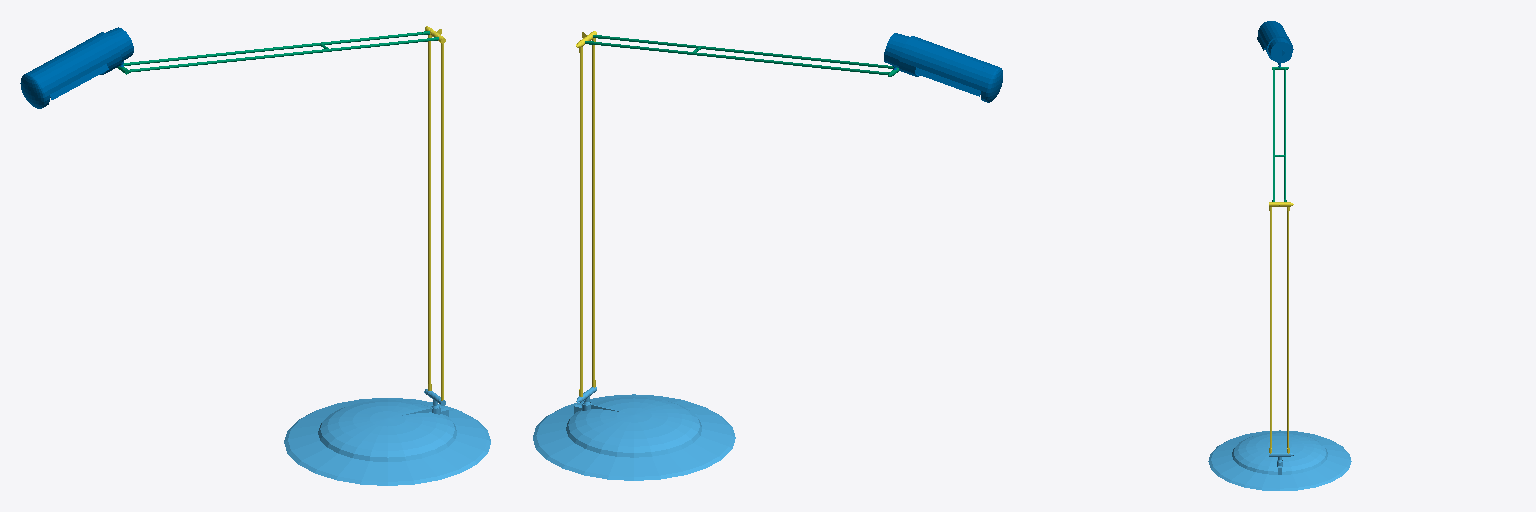
The robot description file, URDF, robot "partnet_3a5a0f4c78e17b284f0c4075db76b7c":
<?xml version="1.0" ?>
<robot name="partnet_3a5a0f4c78e17b284f0c4075db76b7c">
	<link name="base"/>
	<link name="link_0">
		<visual name="lamp_base_part-26">
			<origin xyz="0 0 0"/>
			<geometry>
				<mesh filename="textured_objs/original-1.obj"/>
			</geometry>
		</visual>
		<visual name="lamp_base_part-26">
			<origin xyz="0 0 0"/>
			<geometry>
				<mesh filename="textured_objs/original-23.obj"/>
			</geometry>
		</visual>
		<visual name="lamp_base_part-26">
			<origin xyz="0 0 0"/>
			<geometry>
				<mesh filename="textured_objs/original-22.obj"/>
			</geometry>
		</visual>
		<visual name="lamp_base_part-26">
			<origin xyz="0 0 0"/>
			<geometry>
				<mesh filename="textured_objs/original-3.obj"/>
			</geometry>
		</visual>
		<collision>
			<origin xyz="0 0 0"/>
			<geometry>
				<mesh filename="textured_objs/original-1.obj"/>
			</geometry>
		</collision>
		<collision>
			<origin xyz="0 0 0"/>
			<geometry>
				<mesh filename="textured_objs/original-23.obj"/>
			</geometry>
		</collision>
		<collision>
			<origin xyz="0 0 0"/>
			<geometry>
				<mesh filename="textured_objs/original-22.obj"/>
			</geometry>
		</collision>
		<collision>
			<origin xyz="0 0 0"/>
			<geometry>
				<mesh filename="textured_objs/original-3.obj"/>
			</geometry>
		</collision>
	</link>
	<joint name="joint_0" type="fixed">
		<origin rpy="1.570796326794897 0 -1.570796326794897" xyz="0 0 0"/>
		<child link="link_0"/>
		<parent link="base"/>
	</joint>
	<link name="link_1">
		<visual name="lamp_arm_straight_bar-17">
			<origin xyz="0 -0.549209129484305 0.263572"/>
			<geometry>
				<mesh filename="textured_objs/original-16.obj"/>
			</geometry>
		</visual>
		<collision>
			<origin xyz="0 -0.549209129484305 0.263572"/>
			<geometry>
				<mesh filename="textured_objs/original-16.obj"/>
			</geometry>
		</collision>
	</link>
	<joint name="joint_1" type="revolute">
		<origin xyz="0 0.8290066359306308 -7.693681239595573e-06"/>
		<axis xyz="1 0 0"/>
		<child link="link_1"/>
		<parent link="link_2"/>
		<limit lower="-0.9047786842338603" upper="0.6283185307179586"/>
	</joint>
	<link name="link_2">
		<visual name="lamp_arm_straight_bar-24">
			<origin xyz="0 0.27979750644632584 0.2635643063187604"/>
			<geometry>
				<mesh filename="textured_objs/original-25.obj"/>
			</geometry>
		</visual>
		<visual name="lamp_arm_straight_bar-24">
			<origin xyz="0 0.27979750644632584 0.2635643063187604"/>
			<geometry>
				<mesh filename="textured_objs/original-5.obj"/>
			</geometry>
		</visual>
		<visual name="lamp_arm_straight_bar-24">
			<origin xyz="0 0.27979750644632584 0.2635643063187604"/>
			<geometry>
				<mesh filename="textured_objs/original-13.obj"/>
			</geometry>
		</visual>
		<visual name="lamp_arm_straight_bar-22">
			<origin xyz="0 0.27979750644632584 0.2635643063187604"/>
			<geometry>
				<mesh filename="textured_objs/original-24.obj"/>
			</geometry>
		</visual>
		<visual name="lamp_arm_straight_bar-22">
			<origin xyz="0 0.27979750644632584 0.2635643063187604"/>
			<geometry>
				<mesh filename="textured_objs/original-6.obj"/>
			</geometry>
		</visual>
		<visual name="lamp_arm_straight_bar-22">
			<origin xyz="0 0.27979750644632584 0.2635643063187604"/>
			<geometry>
				<mesh filename="textured_objs/original-14.obj"/>
			</geometry>
		</visual>
		<visual name="lamp_joint-16">
			<origin xyz="0 0.27979750644632584 0.2635643063187604"/>
			<geometry>
				<mesh filename="textured_objs/original-10.obj"/>
			</geometry>
		</visual>
		<visual name="lamp_joint-16">
			<origin xyz="0 0.27979750644632584 0.2635643063187604"/>
			<geometry>
				<mesh filename="textured_objs/original-15.obj"/>
			</geometry>
		</visual>
		<visual name="lamp_joint-16">
			<origin xyz="0 0.27979750644632584 0.2635643063187604"/>
			<geometry>
				<mesh filename="textured_objs/original-8.obj"/>
			</geometry>
		</visual>
		<visual name="lamp_joint-16">
			<origin xyz="0 0.27979750644632584 0.2635643063187604"/>
			<geometry>
				<mesh filename="textured_objs/original-11.obj"/>
			</geometry>
		</visual>
		<visual name="lamp_joint-16">
			<origin xyz="0 0.27979750644632584 0.2635643063187604"/>
			<geometry>
				<mesh filename="textured_objs/original-9.obj"/>
			</geometry>
		</visual>
		<collision>
			<origin xyz="0 0.27979750644632584 0.2635643063187604"/>
			<geometry>
				<mesh filename="textured_objs/original-25.obj"/>
			</geometry>
		</collision>
		<collision>
			<origin xyz="0 0.27979750644632584 0.2635643063187604"/>
			<geometry>
				<mesh filename="textured_objs/original-5.obj"/>
			</geometry>
		</collision>
		<collision>
			<origin xyz="0 0.27979750644632584 0.2635643063187604"/>
			<geometry>
				<mesh filename="textured_objs/original-13.obj"/>
			</geometry>
		</collision>
		<collision>
			<origin xyz="0 0.27979750644632584 0.2635643063187604"/>
			<geometry>
				<mesh filename="textured_objs/original-24.obj"/>
			</geometry>
		</collision>
		<collision>
			<origin xyz="0 0.27979750644632584 0.2635643063187604"/>
			<geometry>
				<mesh filename="textured_objs/original-6.obj"/>
			</geometry>
		</collision>
		<collision>
			<origin xyz="0 0.27979750644632584 0.2635643063187604"/>
			<geometry>
				<mesh filename="textured_objs/original-14.obj"/>
			</geometry>
		</collision>
		<collision>
			<origin xyz="0 0.27979750644632584 0.2635643063187604"/>
			<geometry>
				<mesh filename="textured_objs/original-10.obj"/>
			</geometry>
		</collision>
		<collision>
			<origin xyz="0 0.27979750644632584 0.2635643063187604"/>
			<geometry>
				<mesh filename="textured_objs/original-15.obj"/>
			</geometry>
		</collision>
		<collision>
			<origin xyz="0 0.27979750644632584 0.2635643063187604"/>
			<geometry>
				<mesh filename="textured_objs/original-8.obj"/>
			</geometry>
		</collision>
		<collision>
			<origin xyz="0 0.27979750644632584 0.2635643063187604"/>
			<geometry>
				<mesh filename="textured_objs/original-11.obj"/>
			</geometry>
		</collision>
		<collision>
			<origin xyz="0 0.27979750644632584 0.2635643063187604"/>
			<geometry>
				<mesh filename="textured_objs/original-9.obj"/>
			</geometry>
		</collision>
	</link>
	<joint name="joint_2" type="revolute">
		<origin xyz="0 -0.27979750644632584 -0.2635643063187604"/>
		<axis xyz="1 0 0"/>
		<child link="link_2"/>
		<parent link="link_0"/>
		<limit lower="0.0" upper="0.7539822368615503"/>
	</joint>
	<link name="link_3">
		<visual name="lamp_joint-15">
			<origin xyz="0 -0.6494559727825894 -0.48898082480558575"/>
			<geometry>
				<mesh filename="textured_objs/original-17.obj"/>
			</geometry>
		</visual>
		<visual name="lamp_shade-8">
			<origin xyz="0 -0.6494559727825894 -0.48898082480558575"/>
			<geometry>
				<mesh filename="textured_objs/original-20.obj"/>
			</geometry>
		</visual>
		<visual name="light_bulb-7">
			<origin xyz="0 -0.6494559727825894 -0.48898082480558575"/>
			<geometry>
				<mesh filename="textured_objs/original-19.obj"/>
			</geometry>
		</visual>
		<collision>
			<origin xyz="0 -0.6494559727825894 -0.48898082480558575"/>
			<geometry>
				<mesh filename="textured_objs/original-17.obj"/>
			</geometry>
		</collision>
		<collision>
			<origin xyz="0 -0.6494559727825894 -0.48898082480558575"/>
			<geometry>
				<mesh filename="textured_objs/original-20.obj"/>
			</geometry>
		</collision>
		<collision>
			<origin xyz="0 -0.6494559727825894 -0.48898082480558575"/>
			<geometry>
				<mesh filename="textured_objs/original-19.obj"/>
			</geometry>
		</collision>
	</link>
	<joint name="joint_3" type="revolute">
		<origin xyz="0 0.10024684329828437 0.7525528248055857"/>
		<axis xyz="1 0 0"/>
		<child link="link_3"/>
		<parent link="link_1"/>
		<limit lower="-0.7665486074759096" upper="0.2199114857512859"/>
	</joint>
</robot>

--- Facts derived from the render (not from the file) ---
Views: 3 orthographic renders of the robot side by side, from view 1: azimuth 30°, elevation 25°; view 2: azimuth 150°, elevation 25°; view 3: azimuth 270°, elevation 25°.
Model partnet_3a5a0f4c78e17b284f0c4075db76b7c with 5 links and 4 joints (3 revolute, 1 fixed), rooted at base, posed every joint at zero.
Links seen in each view (by area): view 1: link_0, link_3, link_2, link_1; view 2: link_0, link_3, link_2, link_1; view 3: link_0, link_2, link_3, link_1.
Boxes of the visible links, box(x1,y1,x2,y2) form: link_0: box(284, 389, 490, 485); link_3: box(20, 27, 133, 108); link_2: box(425, 26, 445, 400); link_1: box(117, 31, 438, 74); link_0: box(533, 387, 735, 480); link_3: box(884, 33, 1002, 102); link_2: box(576, 31, 596, 396); link_1: box(585, 35, 898, 76); link_0: box(1208, 430, 1351, 490); link_2: box(1269, 202, 1293, 453); link_3: box(1257, 21, 1293, 67); link_1: box(1272, 67, 1288, 201).
Bounding box of the posed robot: 1.1 × 0.4309 × 1.09 m (x, y, z).
19 mesh visuals loaded from 19 distinct referenced files (19 OBJ).
